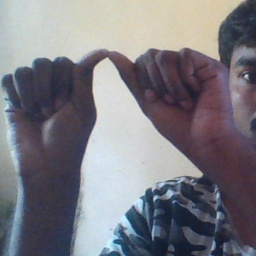A: (19, 37, 187, 143)
